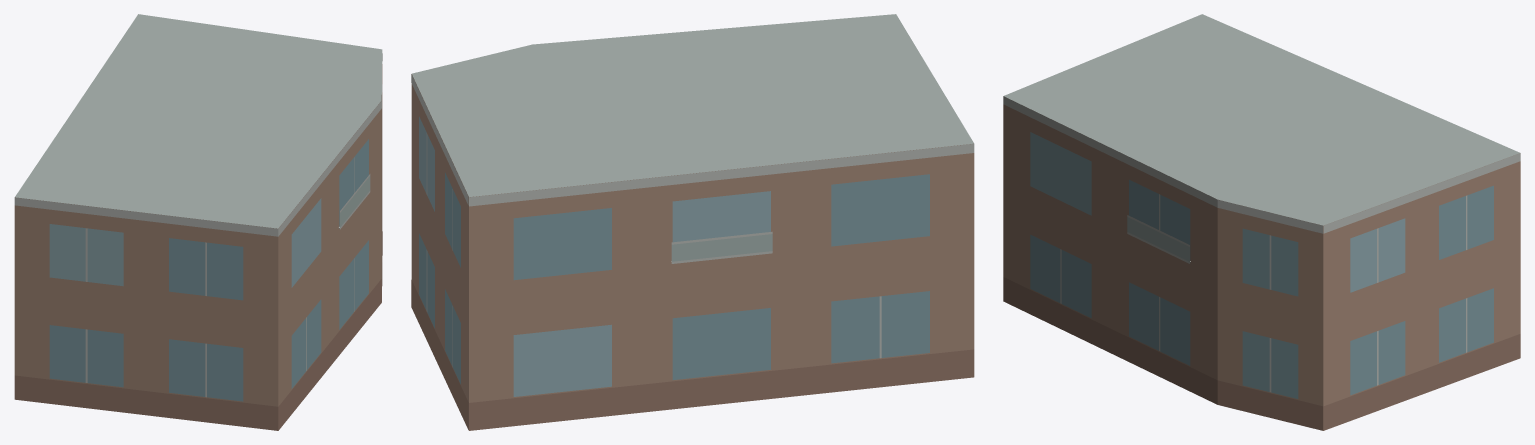
The model's file is survey-upis-33019488.glb.
3 views of the same model, side by side, from view 1: azimuth 30°, elevation 25°; view 2: azimuth 150°, elevation 25°; view 3: azimuth 270°, elevation 25° (orthographic). The views are drawn at different scales.
Visible parts, largest first — view 1: survey-upis-33019488.tmp; view 2: survey-upis-33019488.tmp; view 3: survey-upis-33019488.tmp.
Boxes of the visible parts, x1=… form: survey-upis-33019488.tmp: x1=14, y1=14, x2=382, y2=430; survey-upis-33019488.tmp: x1=411, y1=14, x2=974, y2=430; survey-upis-33019488.tmp: x1=1003, y1=14, x2=1520, y2=430.
Bounding box in the file's own units: 13.5 × 6.1 × 13.94.
